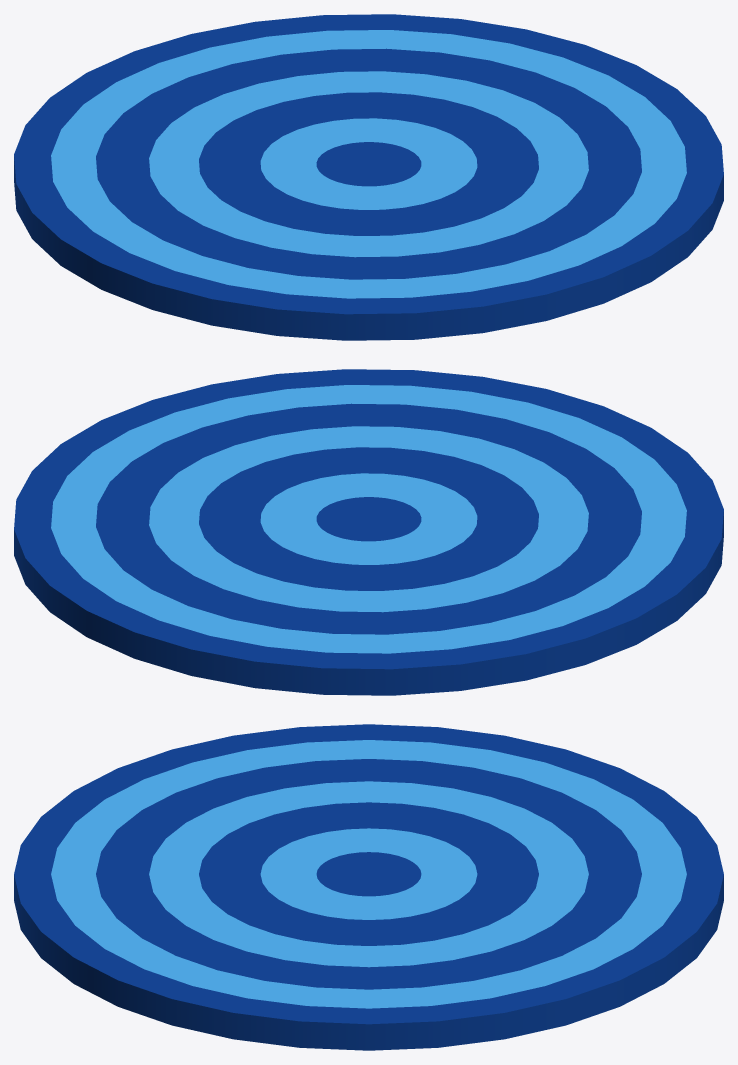
The model's file is Bumper_02.fbx.
3 views of the same model, one above another, from view 1: azimuth 30°, elevation 25°; view 2: azimuth 150°, elevation 25°; view 3: azimuth 270°, elevation 25° (orthographic).
Visible parts, largest first — view 1: Bumper_02; view 2: Bumper_02; view 3: Bumper_02.
Boxes of the visible parts, left/top/right/bottom form: Bumper_02: left=14, top=14, right=723, bottom=340; Bumper_02: left=14, top=369, right=723, bottom=695; Bumper_02: left=14, top=724, right=723, bottom=1050.
Bounding box in the file's own units: 248 × 10.18 × 248.
1 material, 1 textured.
